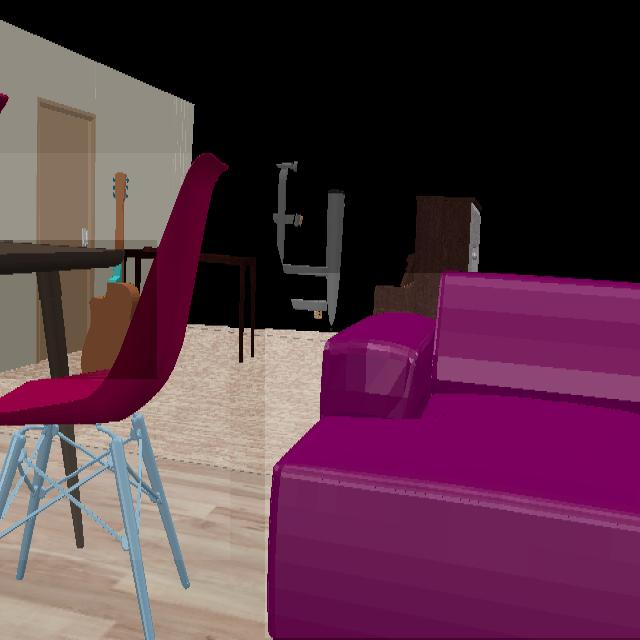chair: (0, 153, 230, 559)
sofa: (265, 273, 640, 639)
table: (0, 241, 157, 379), (58, 428, 78, 477)
